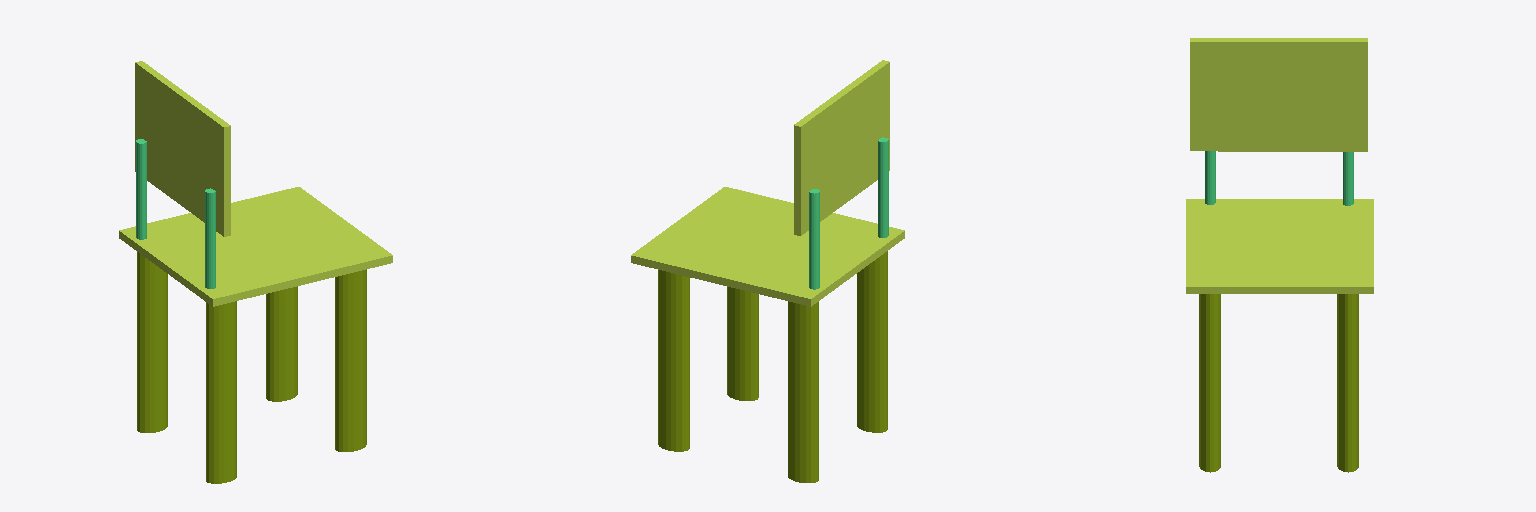
Rendered from DesktopChair.obj.
3 views of the same model, side by side, from view 1: azimuth 30°, elevation 25°; view 2: azimuth 150°, elevation 25°; view 3: azimuth 270°, elevation 25° (orthographic).
Visible parts, largest first — view 1: DesktopChairBase, DesktopChairBack, DesktopChairLeg2, DesktopChairLeg1, DesktopChairLeg3, DesktopChairLeg4, DesktopChairBackTube1, DesktopChairBackTube2; view 2: DesktopChairBase, DesktopChairBack, DesktopChairLeg4, DesktopChairLeg3, DesktopChairLeg1, DesktopChairLeg2, DesktopChairBackTube1, DesktopChairBackTube2; view 3: DesktopChairBack, DesktopChairBase, DesktopChairLeg2, DesktopChairLeg4, DesktopChairBackTube2, DesktopChairBackTube1.
Boxes of the visible parts, x1,y1,x2,y2 form: DesktopChairBase: [119, 187, 392, 306]; DesktopChairBack: [135, 61, 230, 236]; DesktopChairLeg2: [335, 269, 366, 451]; DesktopChairLeg1: [206, 301, 236, 483]; DesktopChairLeg3: [137, 252, 167, 432]; DesktopChairLeg4: [266, 286, 297, 401]; DesktopChairBackTube1: [136, 139, 146, 239]; DesktopChairBackTube2: [205, 188, 215, 288]; DesktopChairBase: [631, 187, 904, 306]; DesktopChairBack: [794, 60, 889, 235]; DesktopChairLeg4: [658, 270, 689, 451]; DesktopChairLeg3: [788, 301, 818, 482]; DesktopChairLeg1: [857, 251, 887, 432]; DesktopChairLeg2: [727, 287, 758, 400]; DesktopChairBackTube1: [809, 189, 819, 289]; DesktopChairBackTube2: [878, 137, 888, 237]; DesktopChairBack: [1190, 38, 1367, 151]; DesktopChairBase: [1186, 199, 1373, 293]; DesktopChairLeg2: [1199, 294, 1220, 472]; DesktopChairLeg4: [1337, 294, 1358, 472]; DesktopChairBackTube2: [1205, 151, 1215, 204]; DesktopChairBackTube1: [1343, 152, 1353, 205].
Size of the model in its own units: 2.09 by 3.98 by 1.89.